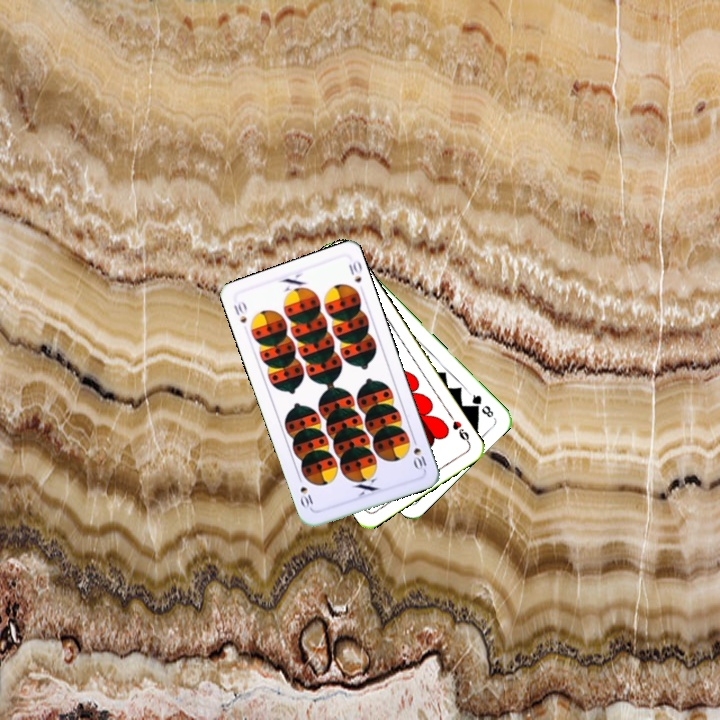G8: (465, 389, 496, 420)
H9: (445, 410, 473, 446)
S10: (404, 433, 430, 473), (230, 297, 250, 326)
